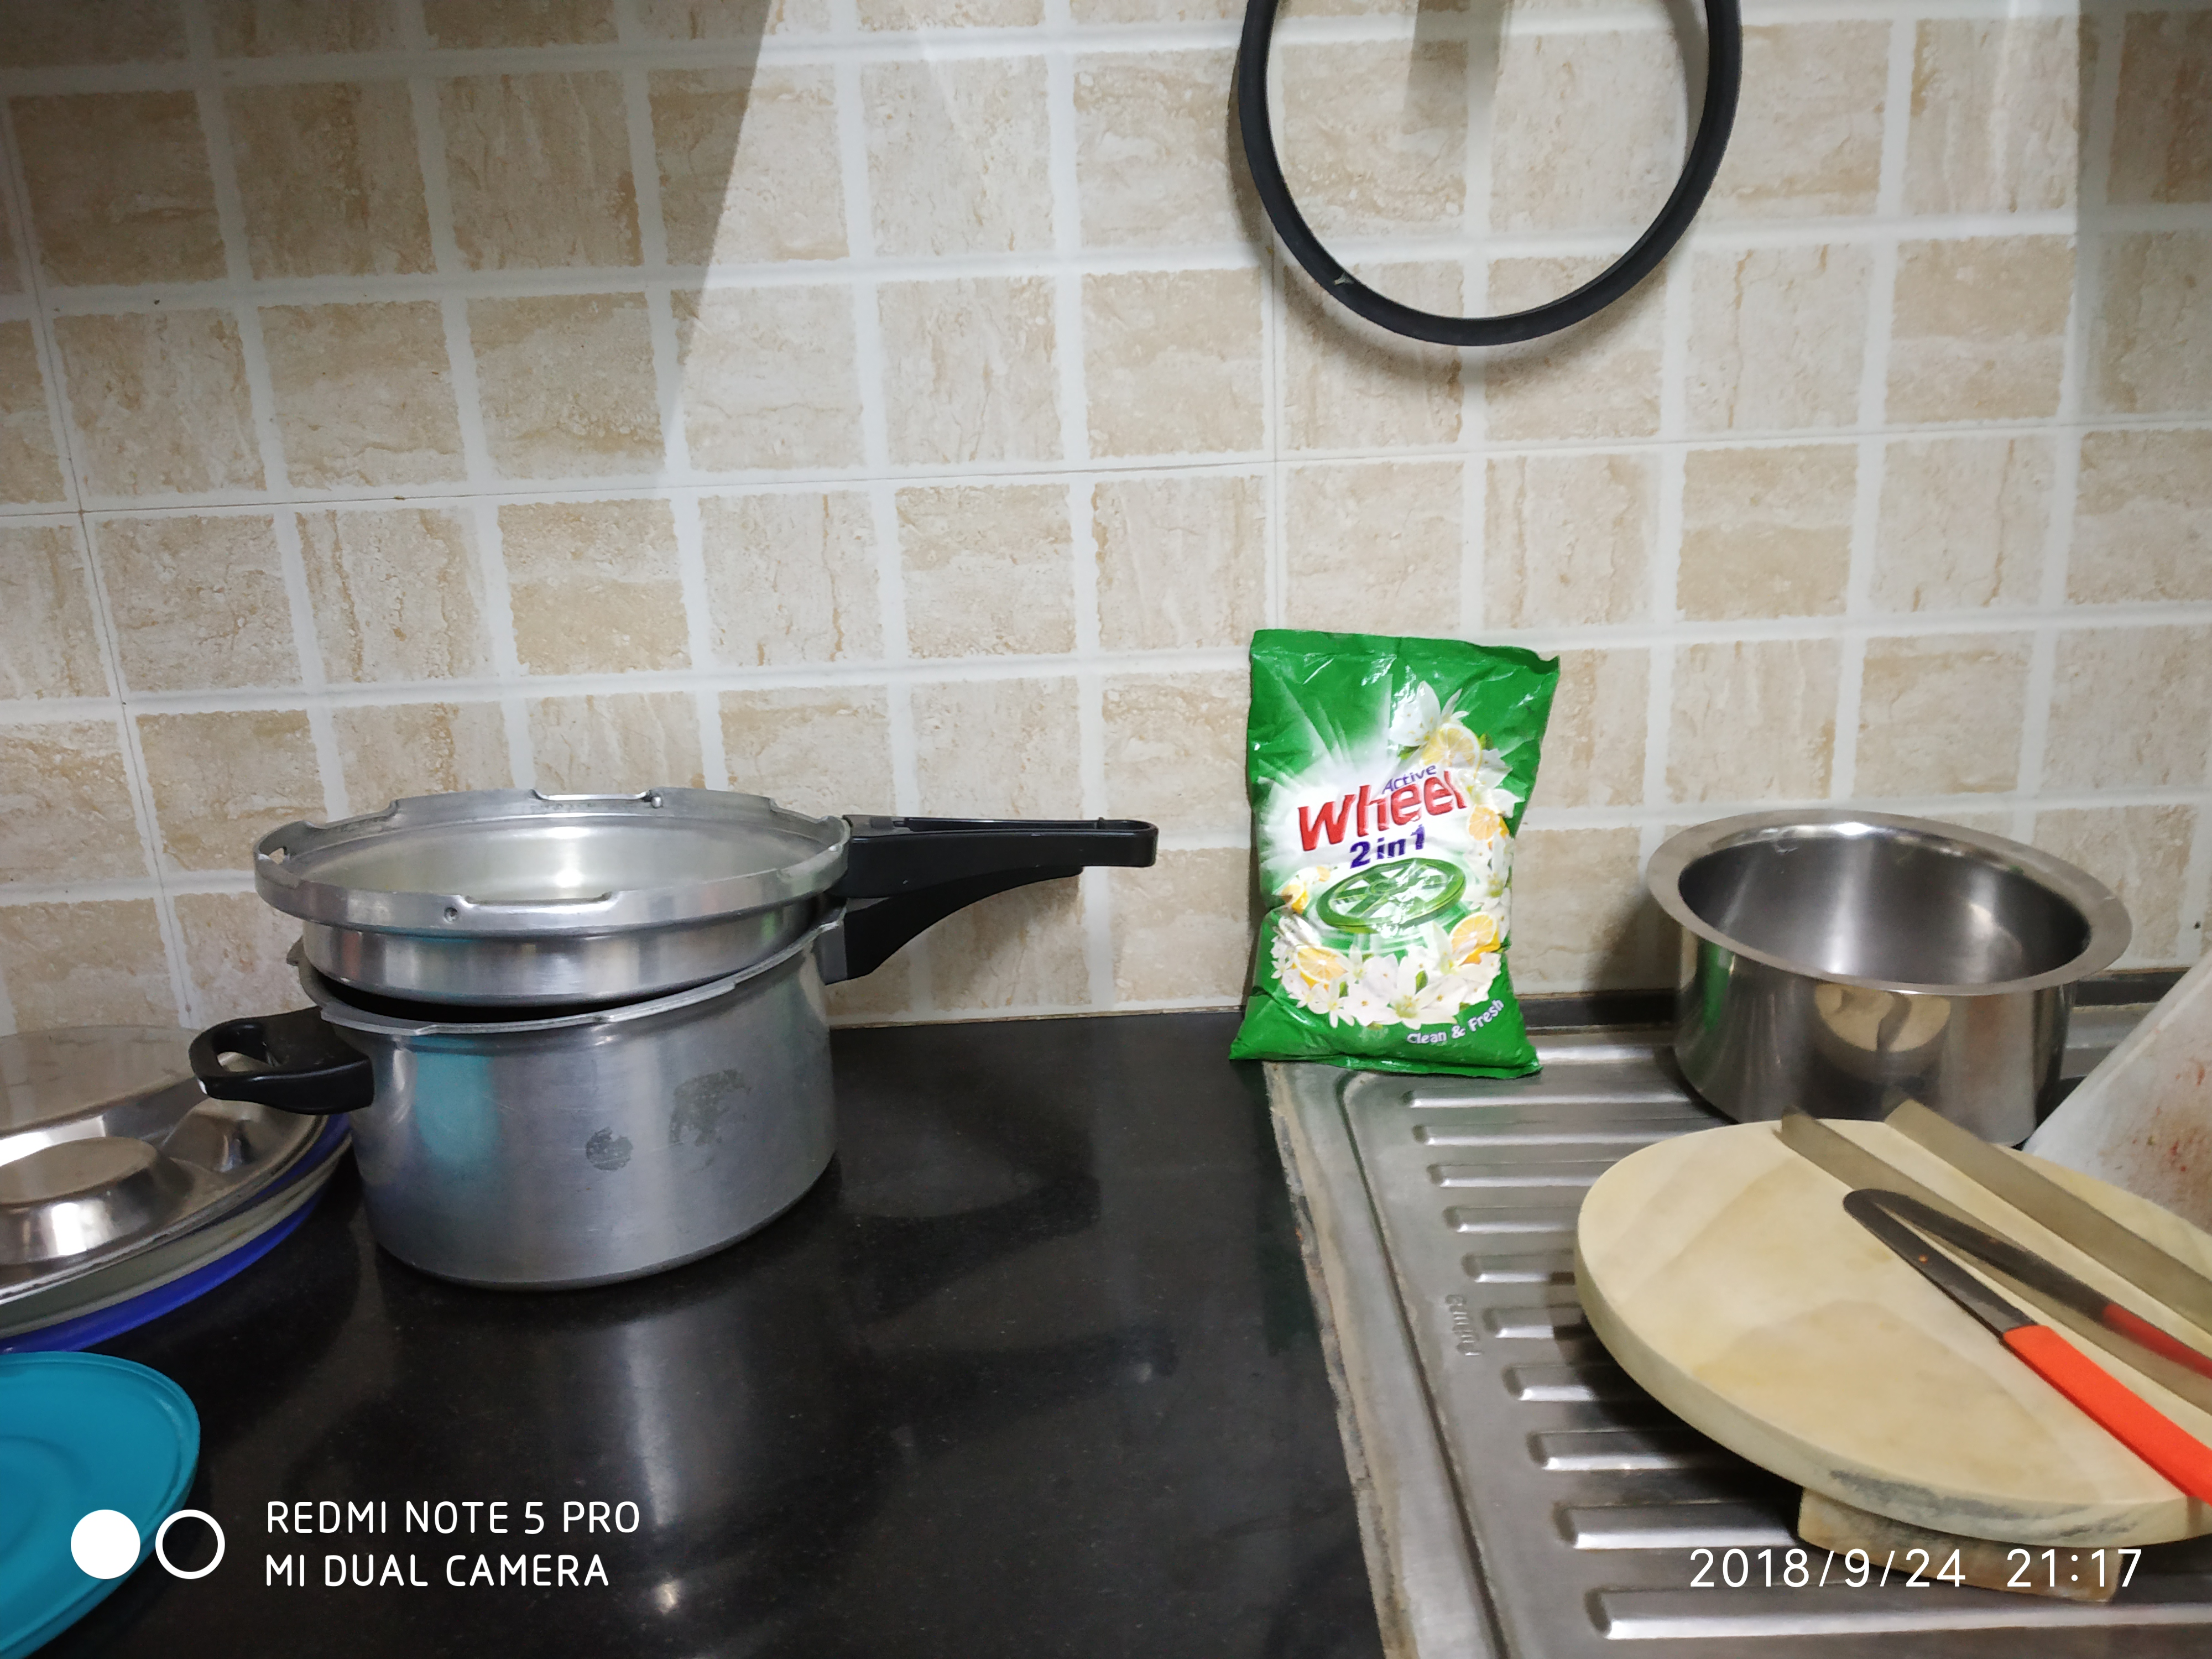detergent: (1235, 628, 1569, 1076)
